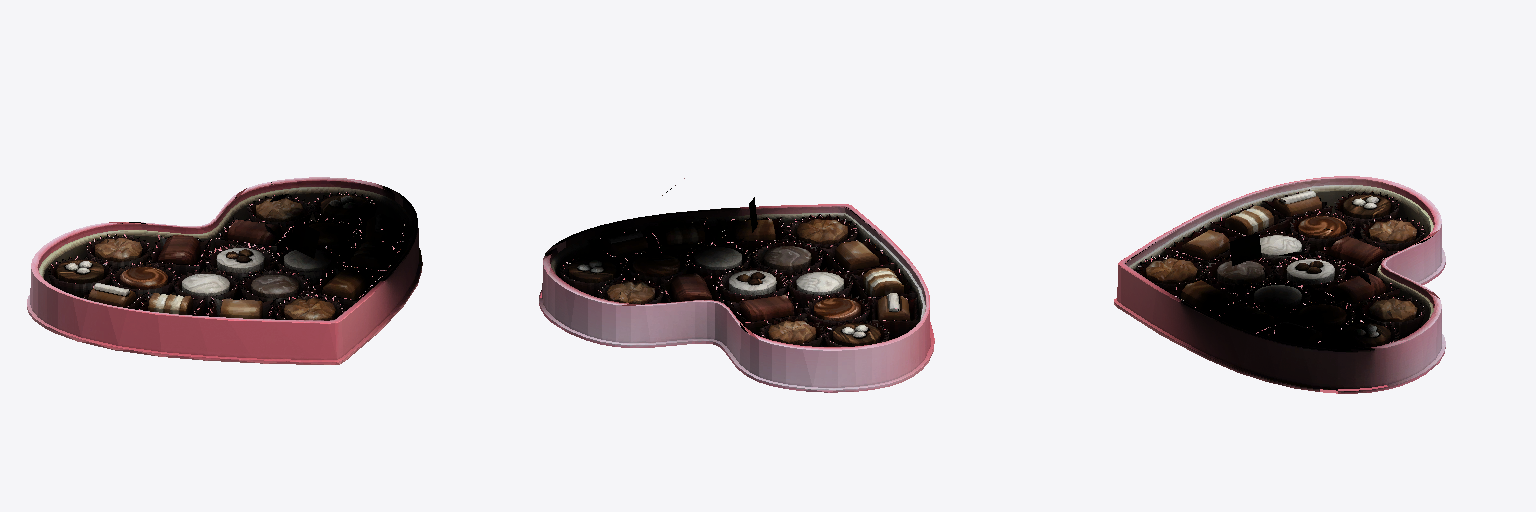
The picture shows the model from 3 angles: view 1: azimuth 30°, elevation 25°; view 2: azimuth 150°, elevation 25°; view 3: azimuth 270°, elevation 25°; orthographic projection.
Parts seen in each view (by area): view 1: obj1.017, obj1.020, obj1.024, obj1.025, obj1.417, obj1.1213, obj1.426, obj1.422, obj1.416, obj1.429, obj1.423, obj1.424 (+12 smaller); view 2: obj1.017, obj1.020, obj1.024, obj1.426, obj1.429, obj1.414, obj1.417, obj1.025, obj1.406, obj1.424, obj1.425, obj1.423 (+12 smaller); view 3: obj1.020, obj1.017, obj1.025, obj1.1213, obj1.426, obj1.417, obj1.422, obj1.406, obj1.416, obj1.414, obj1.423, obj1.427 (+12 smaller).
Boxes of the visible parts, x1=… form: obj1.017: x1=27, y1=222, x2=339, y2=364; obj1.020: x1=203, y1=177, x2=422, y2=363; obj1.024: x1=207, y1=187, x2=413, y2=251; obj1.025: x1=39, y1=230, x2=207, y2=284; obj1.417: x1=227, y1=220, x2=281, y2=245; obj1.1213: x1=342, y1=297, x2=370, y2=355; obj1.426: x1=284, y1=298, x2=335, y2=320; obj1.422: x1=322, y1=270, x2=367, y2=299; obj1.416: x1=351, y1=241, x2=391, y2=269; obj1.429: x1=251, y1=275, x2=298, y2=297; obj1.423: x1=95, y1=238, x2=142, y2=261; obj1.424: x1=120, y1=267, x2=167, y2=289; obj1.017: x1=713, y1=205, x2=934, y2=392; obj1.020: x1=539, y1=204, x2=848, y2=347; obj1.024: x1=551, y1=213, x2=844, y2=276; obj1.426: x1=797, y1=219, x2=847, y2=243; obj1.429: x1=764, y1=246, x2=811, y2=269; obj1.414: x1=834, y1=240, x2=879, y2=270; obj1.417: x1=669, y1=273, x2=712, y2=301; obj1.025: x1=843, y1=213, x2=925, y2=321; obj1.406: x1=863, y1=268, x2=903, y2=296; obj1.424: x1=814, y1=298, x2=860, y2=343; obj1.425: x1=694, y1=247, x2=741, y2=269; obj1.423: x1=768, y1=320, x2=815, y2=343; obj1.020: x1=1114, y1=263, x2=1445, y2=393; obj1.017: x1=1114, y1=176, x2=1445, y2=299; obj1.025: x1=1129, y1=185, x2=1433, y2=270; obj1.1213: x1=1121, y1=268, x2=1156, y2=323; obj1.426: x1=1146, y1=258, x2=1197, y2=283; obj1.417: x1=1330, y1=273, x2=1385, y2=304; obj1.422: x1=1181, y1=280, x2=1229, y2=311; obj1.406: x1=1225, y1=205, x2=1273, y2=235; obj1.416: x1=1225, y1=303, x2=1273, y2=332; obj1.414: x1=1181, y1=230, x2=1229, y2=260; obj1.423: x1=1369, y1=219, x2=1416, y2=243; obj1.427: x1=1369, y1=298, x2=1417, y2=321.
Bounding box in the file's own units: 1.65 × 0.4151 × 1.29.
1 materials, 1 textured.